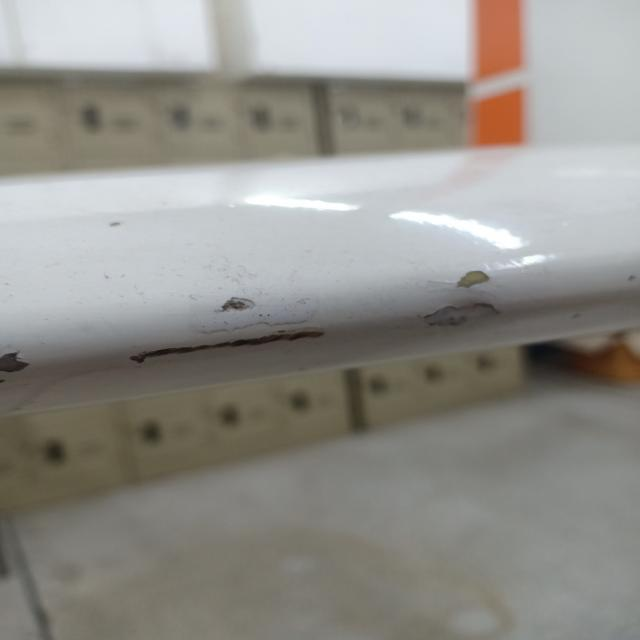Crack: (102, 270, 346, 370), (406, 256, 521, 336), (0, 322, 28, 403)
